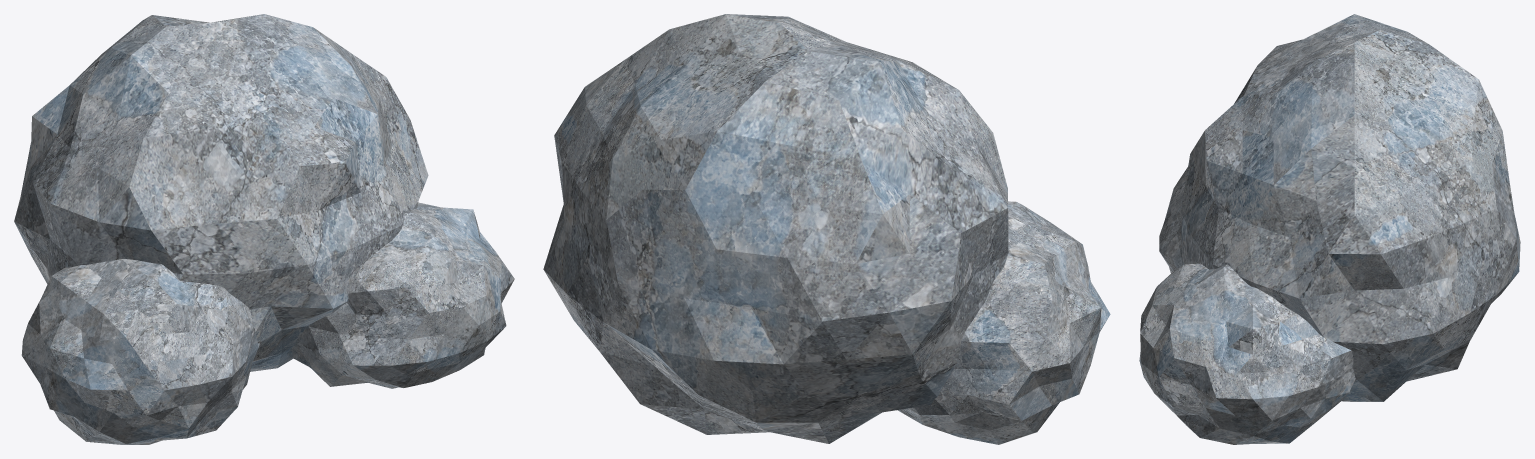
File: StoneCluster.fbx
The picture shows the model from 3 angles, left to right: view 1: azimuth 30°, elevation 25°; view 2: azimuth 150°, elevation 25°; view 3: azimuth 270°, elevation 25°; orthographic projection. The views are drawn at different scales.
Visible parts, largest first — view 1: StoneCluster; view 2: StoneCluster; view 3: StoneCluster.
Boxes of the visible parts, box(x1,y1,x2,y2) form: StoneCluster: box(14, 14, 514, 444); StoneCluster: box(543, 14, 1110, 444); StoneCluster: box(1139, 14, 1520, 444).
Size of the model in its own units: 1.43 by 1.06 by 1.09.
